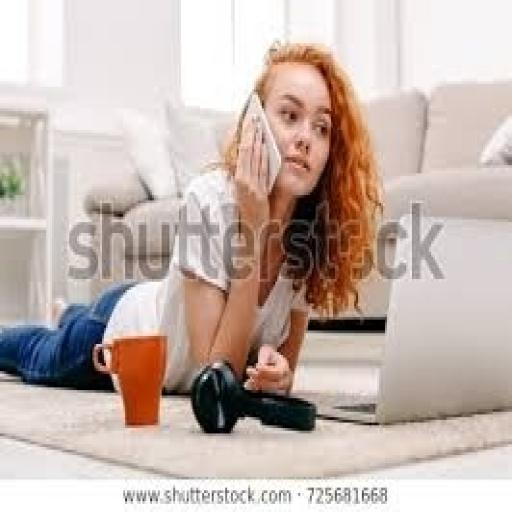using_laptop: (287, 206, 510, 425)
